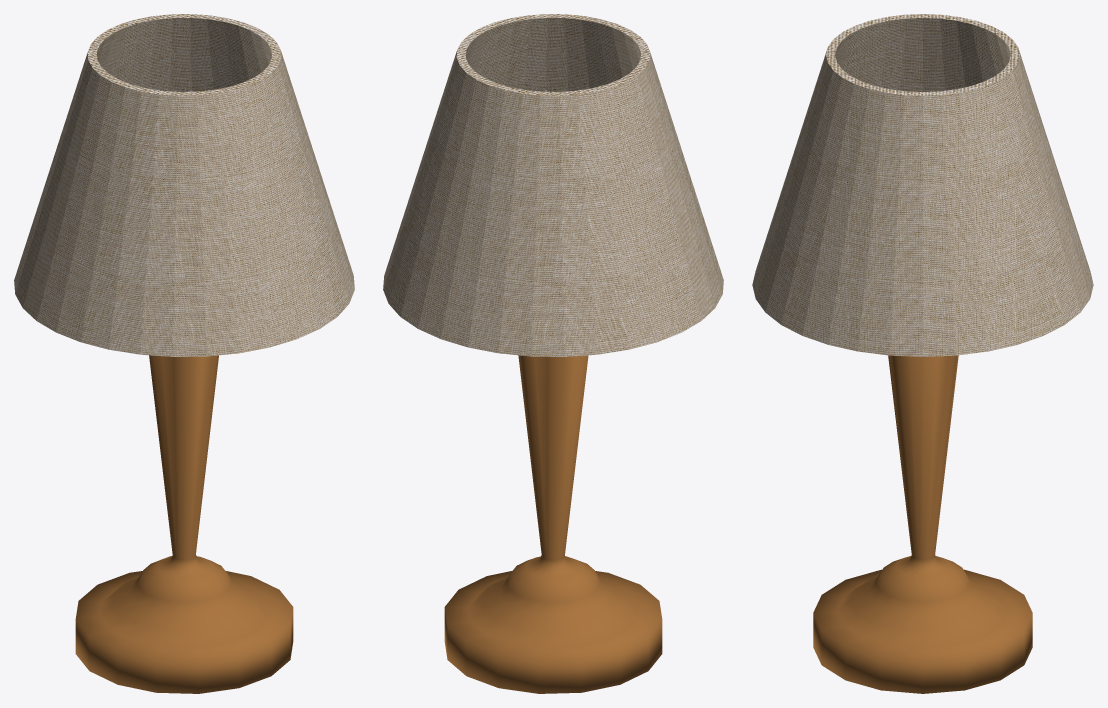
Rendered from lamp.fbx.
3 views of the same model, side by side, from view 1: azimuth 30°, elevation 25°; view 2: azimuth 150°, elevation 25°; view 3: azimuth 270°, elevation 25° (orthographic).
Parts seen in each view (by area): view 1: Cylinder; view 2: Cylinder; view 3: Cylinder.
Boxes of the visible parts, bbox=[...] form: Cylinder: bbox=[14, 14, 354, 693]; Cylinder: bbox=[383, 14, 723, 693]; Cylinder: bbox=[752, 14, 1093, 693].
Bounding box in the file's own units: 311 × 596 × 311.
